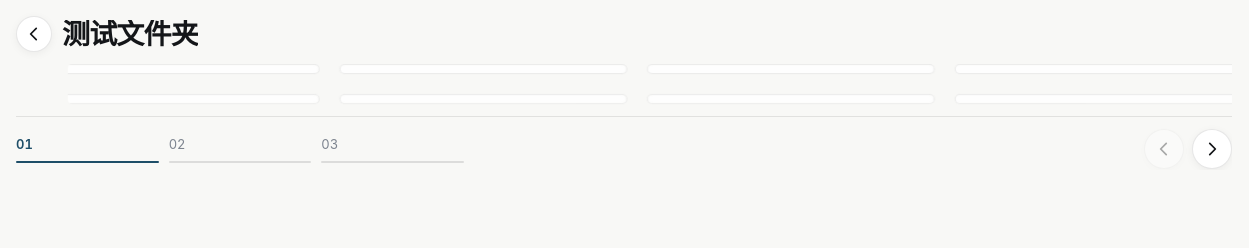
library filters › accepts the route's folder snapshot and delegates folder back navigation
The image size is (1249, 248).
Expected: the heading "测试文件夹" is shown, [62,20,198,48]
Step 1. Click the button named "返回文件夹" → (34, 34), box [16,16,52,52]
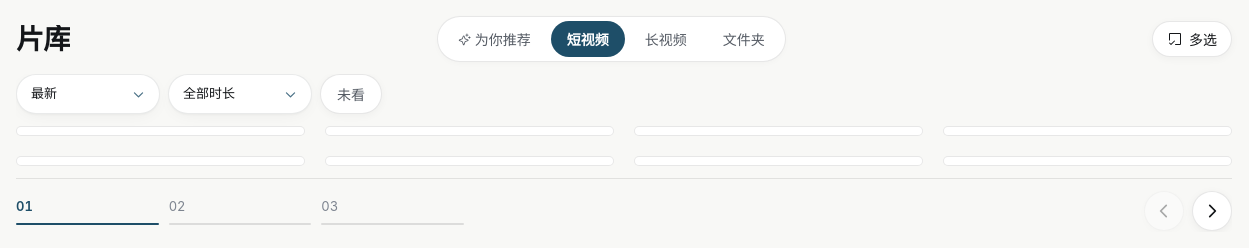
Now the heading "片库" is shown, box [16,25,70,53]
